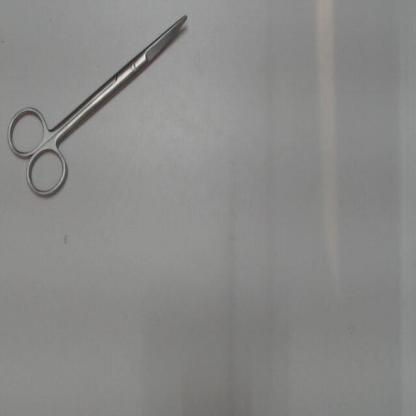Curved Mayo Scissors: (3, 9, 193, 207)
